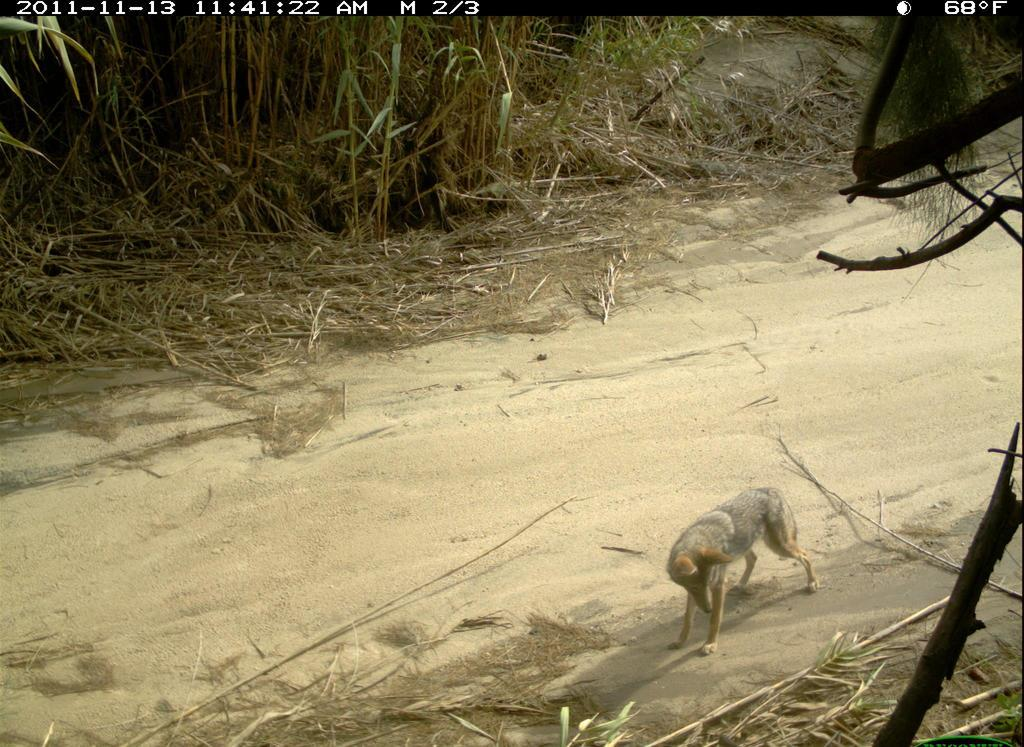coyote: (665, 476, 823, 660)
